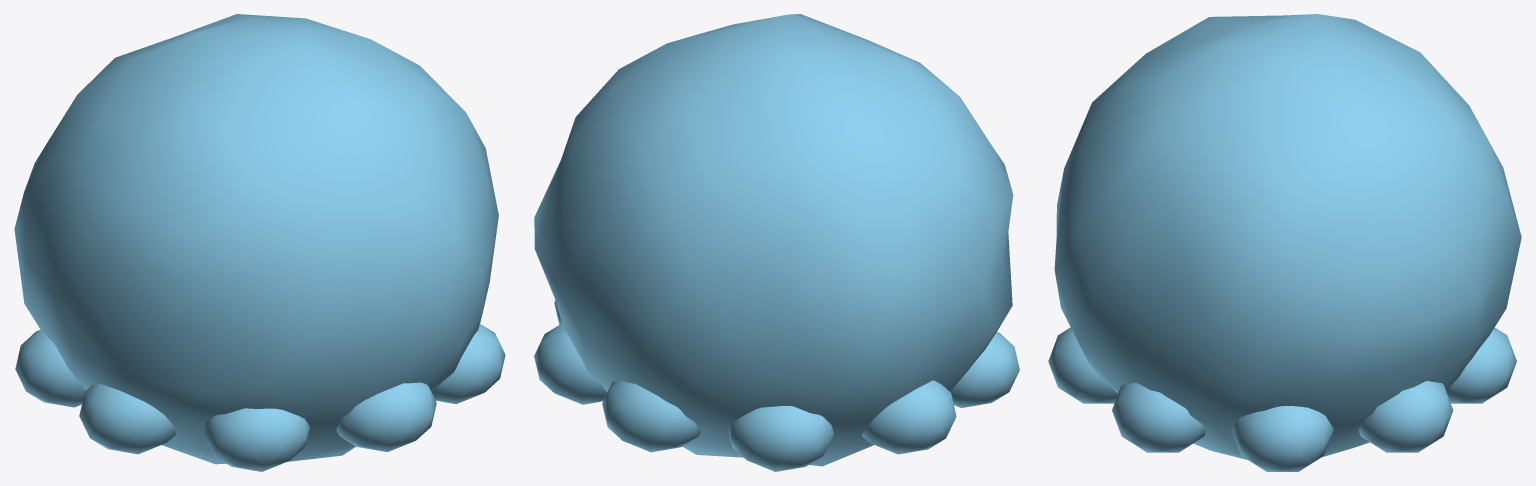
The model's file is Blue_moon_scoop.fbx.
The picture shows the model from 3 angles, left to right: view 1: azimuth 30°, elevation 25°; view 2: azimuth 150°, elevation 25°; view 3: azimuth 270°, elevation 25°; orthographic projection.
Visible parts, largest first — view 1: Toon_Blue_moon_scoop Blue moon scoop.001, Toon_Blue_moon_scoop Ruffled scoop edge.015, Toon_Blue_moon_scoop Ruffled scoop edge.016, Toon_Blue_moon_scoop Ruffled scoop edge.014, Toon_Blue_moon_scoop Ruffled scoop edge.013, Toon_Blue_moon_scoop Ruffled scoop edge.017; view 2: Toon_Blue_moon_scoop Blue moon scoop.001, Toon_Blue_moon_scoop Ruffled scoop edge.012, Toon_Blue_moon_scoop Ruffled scoop edge.011, Toon_Blue_moon_scoop Ruffled scoop edge.013, Toon_Blue_moon_scoop Ruffled scoop edge.010, Toon_Blue_moon_scoop Ruffled scoop edge.014; view 3: Toon_Blue_moon_scoop Blue moon scoop.001, Toon_Blue_moon_scoop Ruffled scoop edge.009, Toon_Blue_moon_scoop Ruffled scoop edge.010, Toon_Blue_moon_scoop Ruffled scoop edge.017, Toon_Blue_moon_scoop Ruffled scoop edge.011, Toon_Blue_moon_scoop Ruffled scoop edge.016.
Part boxes in pixels (<box>): Toon_Blue_moon_scoop Blue moon scoop.001: <box>14,14,498,464</box>; Toon_Blue_moon_scoop Ruffled scoop edge.015: <box>203,408,309,471</box>; Toon_Blue_moon_scoop Ruffled scoop edge.016: <box>336,382,436,451</box>; Toon_Blue_moon_scoop Ruffled scoop edge.014: <box>79,383,175,454</box>; Toon_Blue_moon_scoop Ruffled scoop edge.013: <box>15,330,85,407</box>; Toon_Blue_moon_scoop Ruffled scoop edge.017: <box>431,324,505,404</box>; Toon_Blue_moon_scoop Blue moon scoop.001: <box>534,14,1013,466</box>; Toon_Blue_moon_scoop Ruffled scoop edge.012: <box>728,406,833,471</box>; Toon_Blue_moon_scoop Ruffled scoop edge.011: <box>602,380,700,452</box>; Toon_Blue_moon_scoop Ruffled scoop edge.013: <box>862,380,956,454</box>; Toon_Blue_moon_scoop Ruffled scoop edge.010: <box>534,323,607,404</box>; Toon_Blue_moon_scoop Ruffled scoop edge.014: <box>950,332,1019,407</box>; Toon_Blue_moon_scoop Blue moon scoop.001: <box>1054,14,1521,459</box>; Toon_Blue_moon_scoop Ruffled scoop edge.009: <box>1231,406,1333,471</box>; Toon_Blue_moon_scoop Ruffled scoop edge.010: <box>1359,381,1453,452</box>; Toon_Blue_moon_scoop Ruffled scoop edge.017: <box>1112,383,1205,452</box>; Toon_Blue_moon_scoop Ruffled scoop edge.011: <box>1446,327,1516,403</box>; Toon_Blue_moon_scoop Ruffled scoop edge.016: <box>1048,327,1117,403</box>.
Bounding box in the file's own units: 10.56 × 9.6 × 10.18.
